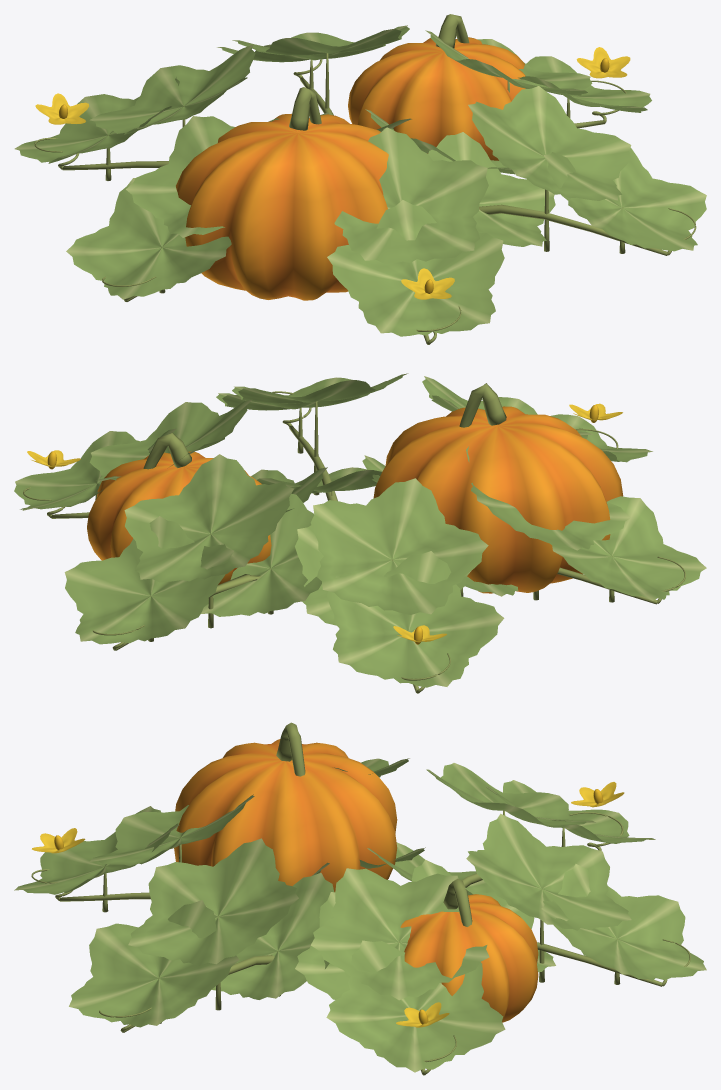
Rendered from pumpkin_mature.glb.
The picture shows the model from 3 angles, top to bottom: view 1: azimuth 30°, elevation 25°; view 2: azimuth 150°, elevation 25°; view 3: azimuth 270°, elevation 25°; orthographic projection.
Visible parts, largest first — view 1: leaves, fruit, stems, flowers; view 2: leaves, fruit, stems, flowers; view 3: leaves, fruit, stems, flowers.
Boxes of the visible parts, x1,y1,x2,y2 form: leaves: (14,25,706,336); fruit: (176,36,525,300); stems: (34,14,696,344); flowers: (35,47,630,299); leaves: (14,373,706,687); fruit: (87,406,623,593); stems: (23,383,685,693); flowers: (27,403,622,644); leaves: (14,758,706,1072); fruit: (174,739,538,1022); stems: (31,722,690,1075); flowers: (32,782,624,1027).
Bounding box in the file's own units: 0.9317 × 0.3101 × 0.9163.
